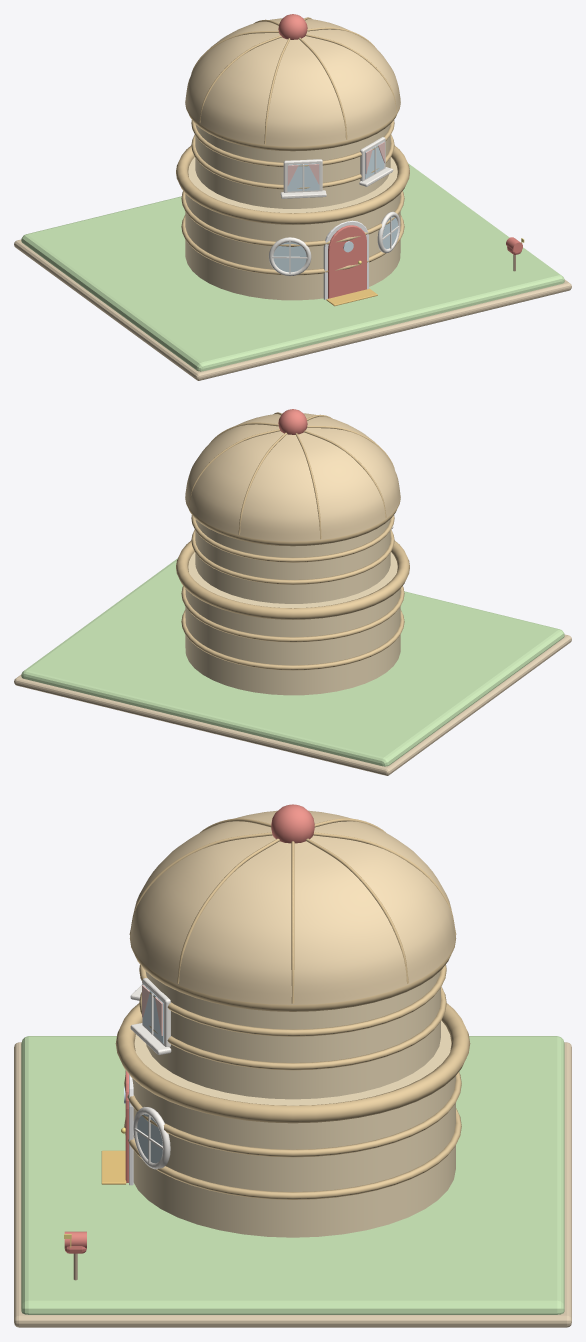
Rendered from building_dumpling_L06.glb.
3 views of the same model, one above another, from view 1: azimuth 30°, elevation 25°; view 2: azimuth 150°, elevation 25°; view 3: azimuth 270°, elevation 25° (orthographic). The views are drawn at different scales.
Parts seen in each view (by area): view 1: dumpling_L6; view 2: dumpling_L6; view 3: dumpling_L6.
Part boxes in pixels (x1,y1,x2,y2): dumpling_L6: [14, 14, 571, 380]; dumpling_L6: [14, 409, 571, 775]; dumpling_L6: [14, 804, 571, 1327].
Size of the model in its own units: 26.61 by 17.17 by 22.6.
